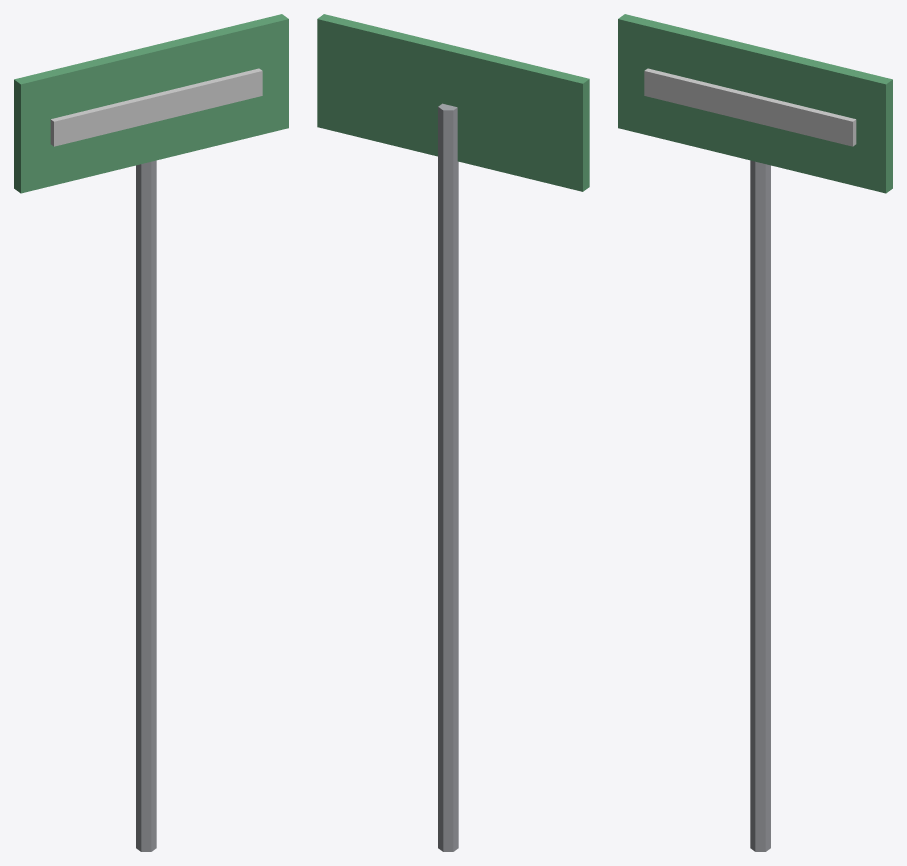
File: Tabela_Yon.glb
The picture shows the model from 3 angles, left to right: view 1: azimuth 30°, elevation 25°; view 2: azimuth 150°, elevation 25°; view 3: azimuth 330°, elevation 25°; orthographic projection.
Parts seen in each view (by area): view 1: Tabela_Yon; view 2: Tabela_Yon; view 3: Tabela_Yon.
Boxes of the visible parts, left/top/right/bottom form: Tabela_Yon: left=14, top=14, right=288, bottom=851; Tabela_Yon: left=317, top=14, right=589, bottom=851; Tabela_Yon: left=618, top=14, right=892, bottom=851.
Size of the model in its own units: 0.9 by 2.58 by 0.1.
